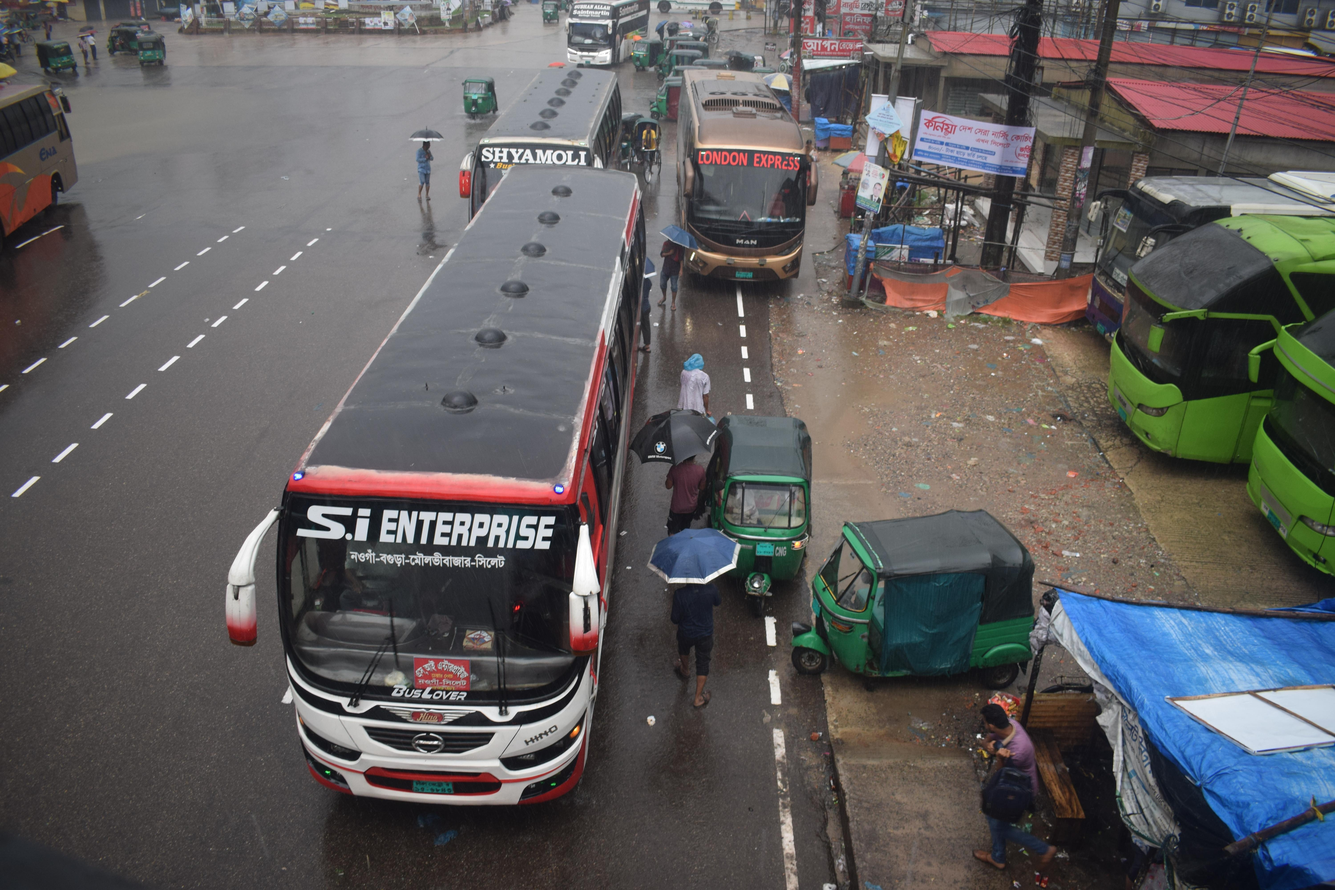Bus: (192, 115, 661, 833), (1074, 196, 1335, 483), (1049, 156, 1282, 373), (654, 33, 812, 307), (442, 35, 640, 242), (1231, 222, 1335, 609), (0, 51, 118, 252), (546, 0, 674, 79)
